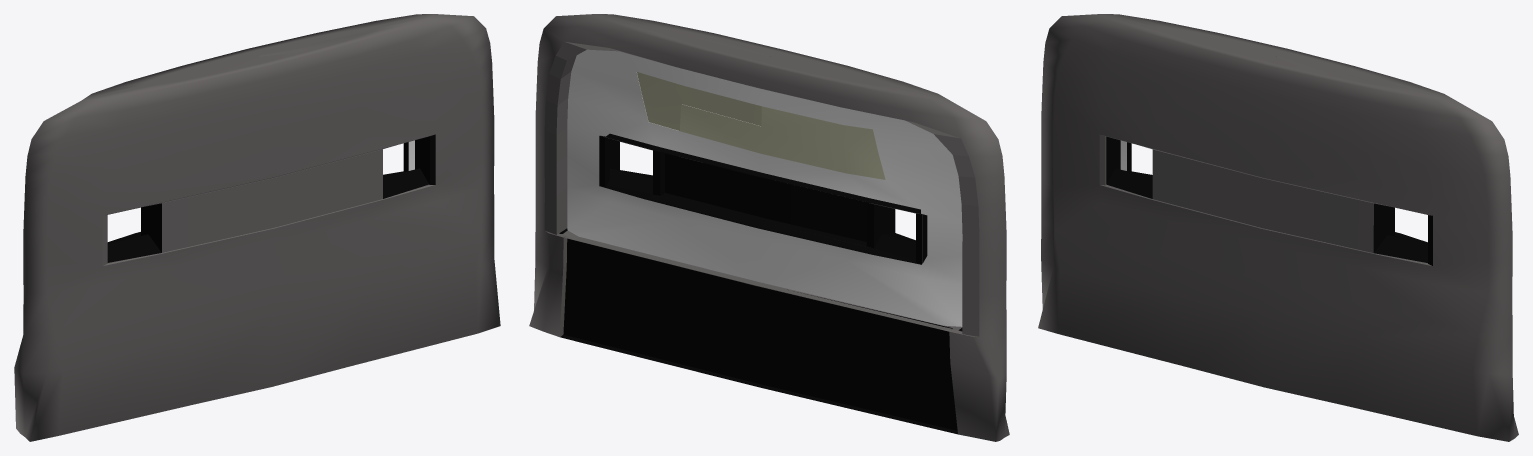
File: Cassette.fbx
3 renders of one model, left to right at view 1: azimuth 30°, elevation 25°; view 2: azimuth 150°, elevation 25°; view 3: azimuth 330°, elevation 25°, orthographic.
Visible parts, largest first — view 1: nurbsToPoly1; view 2: nurbsToPoly1; view 3: nurbsToPoly1.
Boxes of the visible parts, box(x1,y1,x2,y2) form: nurbsToPoly1: box(14, 14, 500, 441); nurbsToPoly1: box(529, 14, 1009, 441); nurbsToPoly1: box(1038, 14, 1518, 441).
Size of the model in its own units: 0.622 by 0.4096 by 0.0673.
